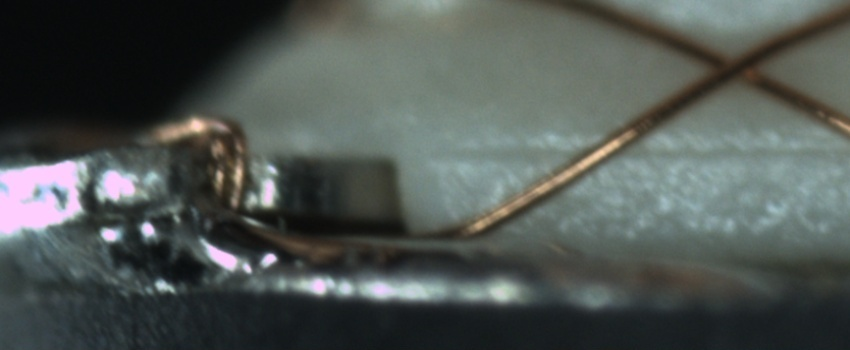CL: (688, 28, 784, 96)
DL: (430, 127, 849, 184)
TE: (128, 111, 255, 213)
